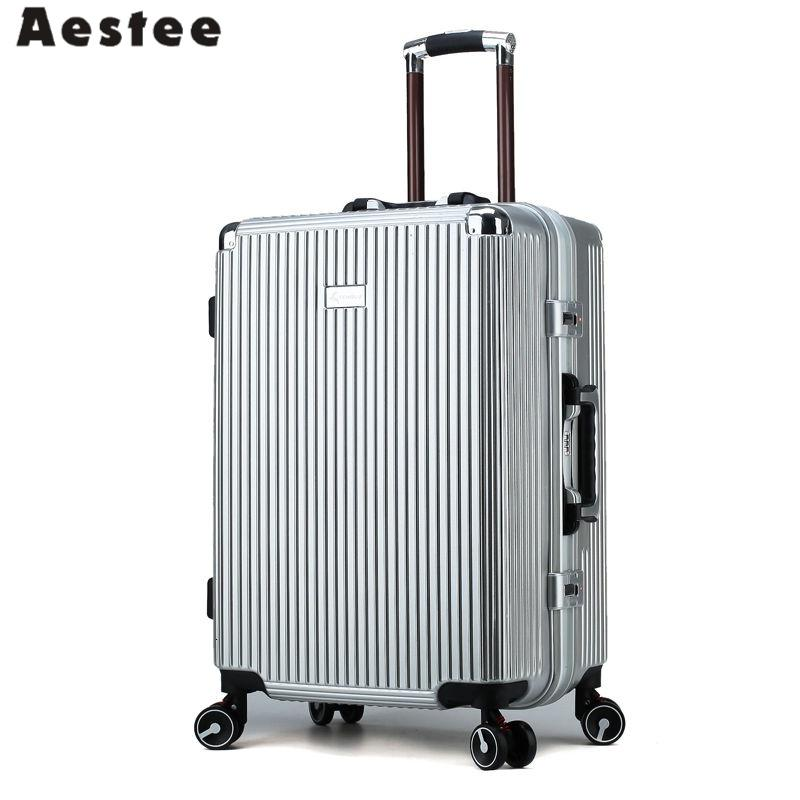box: (215, 202, 608, 712)
handle: (561, 371, 601, 537), (340, 192, 490, 207)
lock: (545, 299, 585, 338), (547, 570, 586, 609)
wheel: (470, 721, 537, 771), (193, 700, 247, 752), (579, 697, 625, 745), (308, 698, 365, 726)
